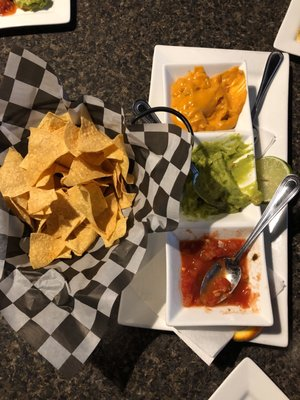salad: (184, 173, 299, 307)
